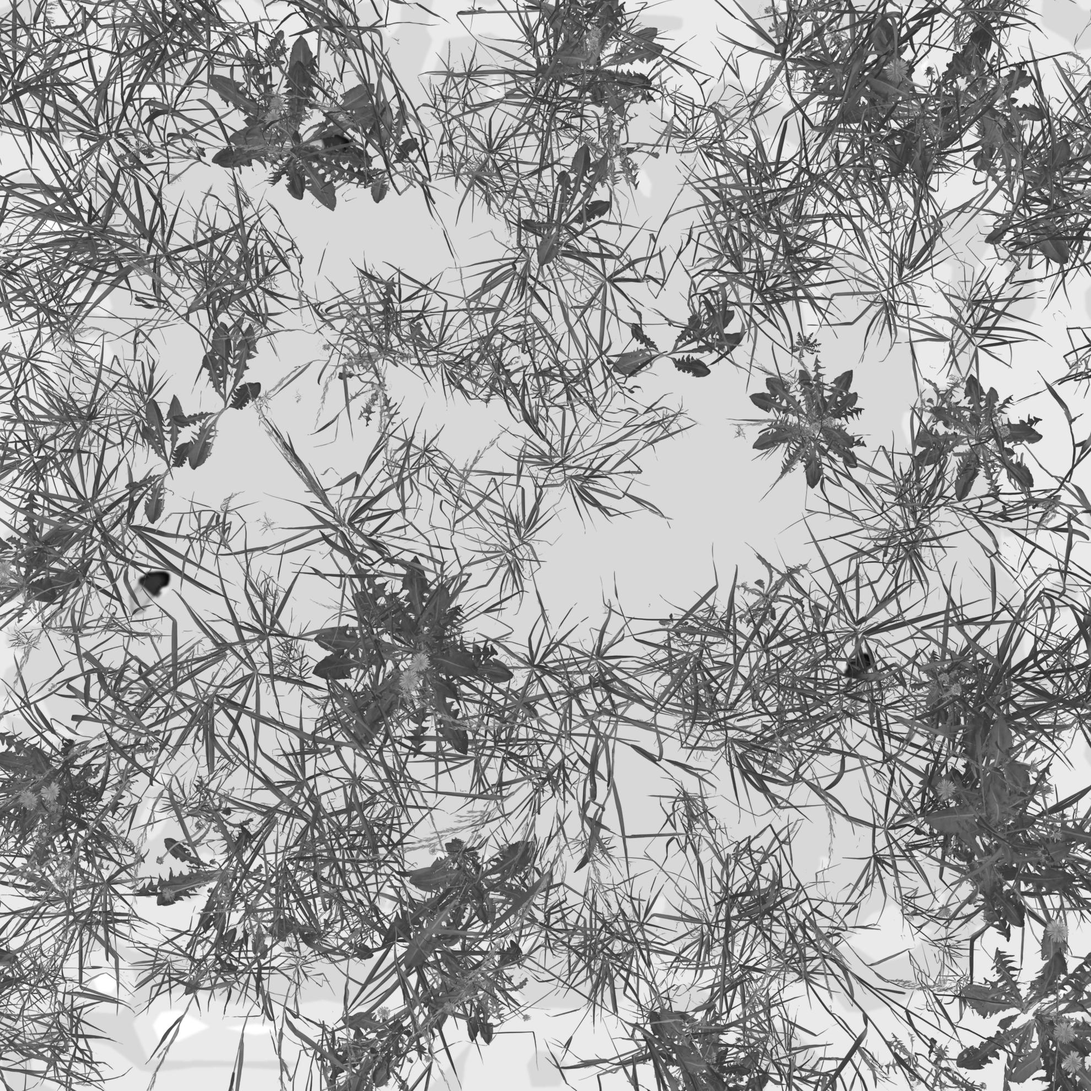landmine: (124, 568, 173, 618)
